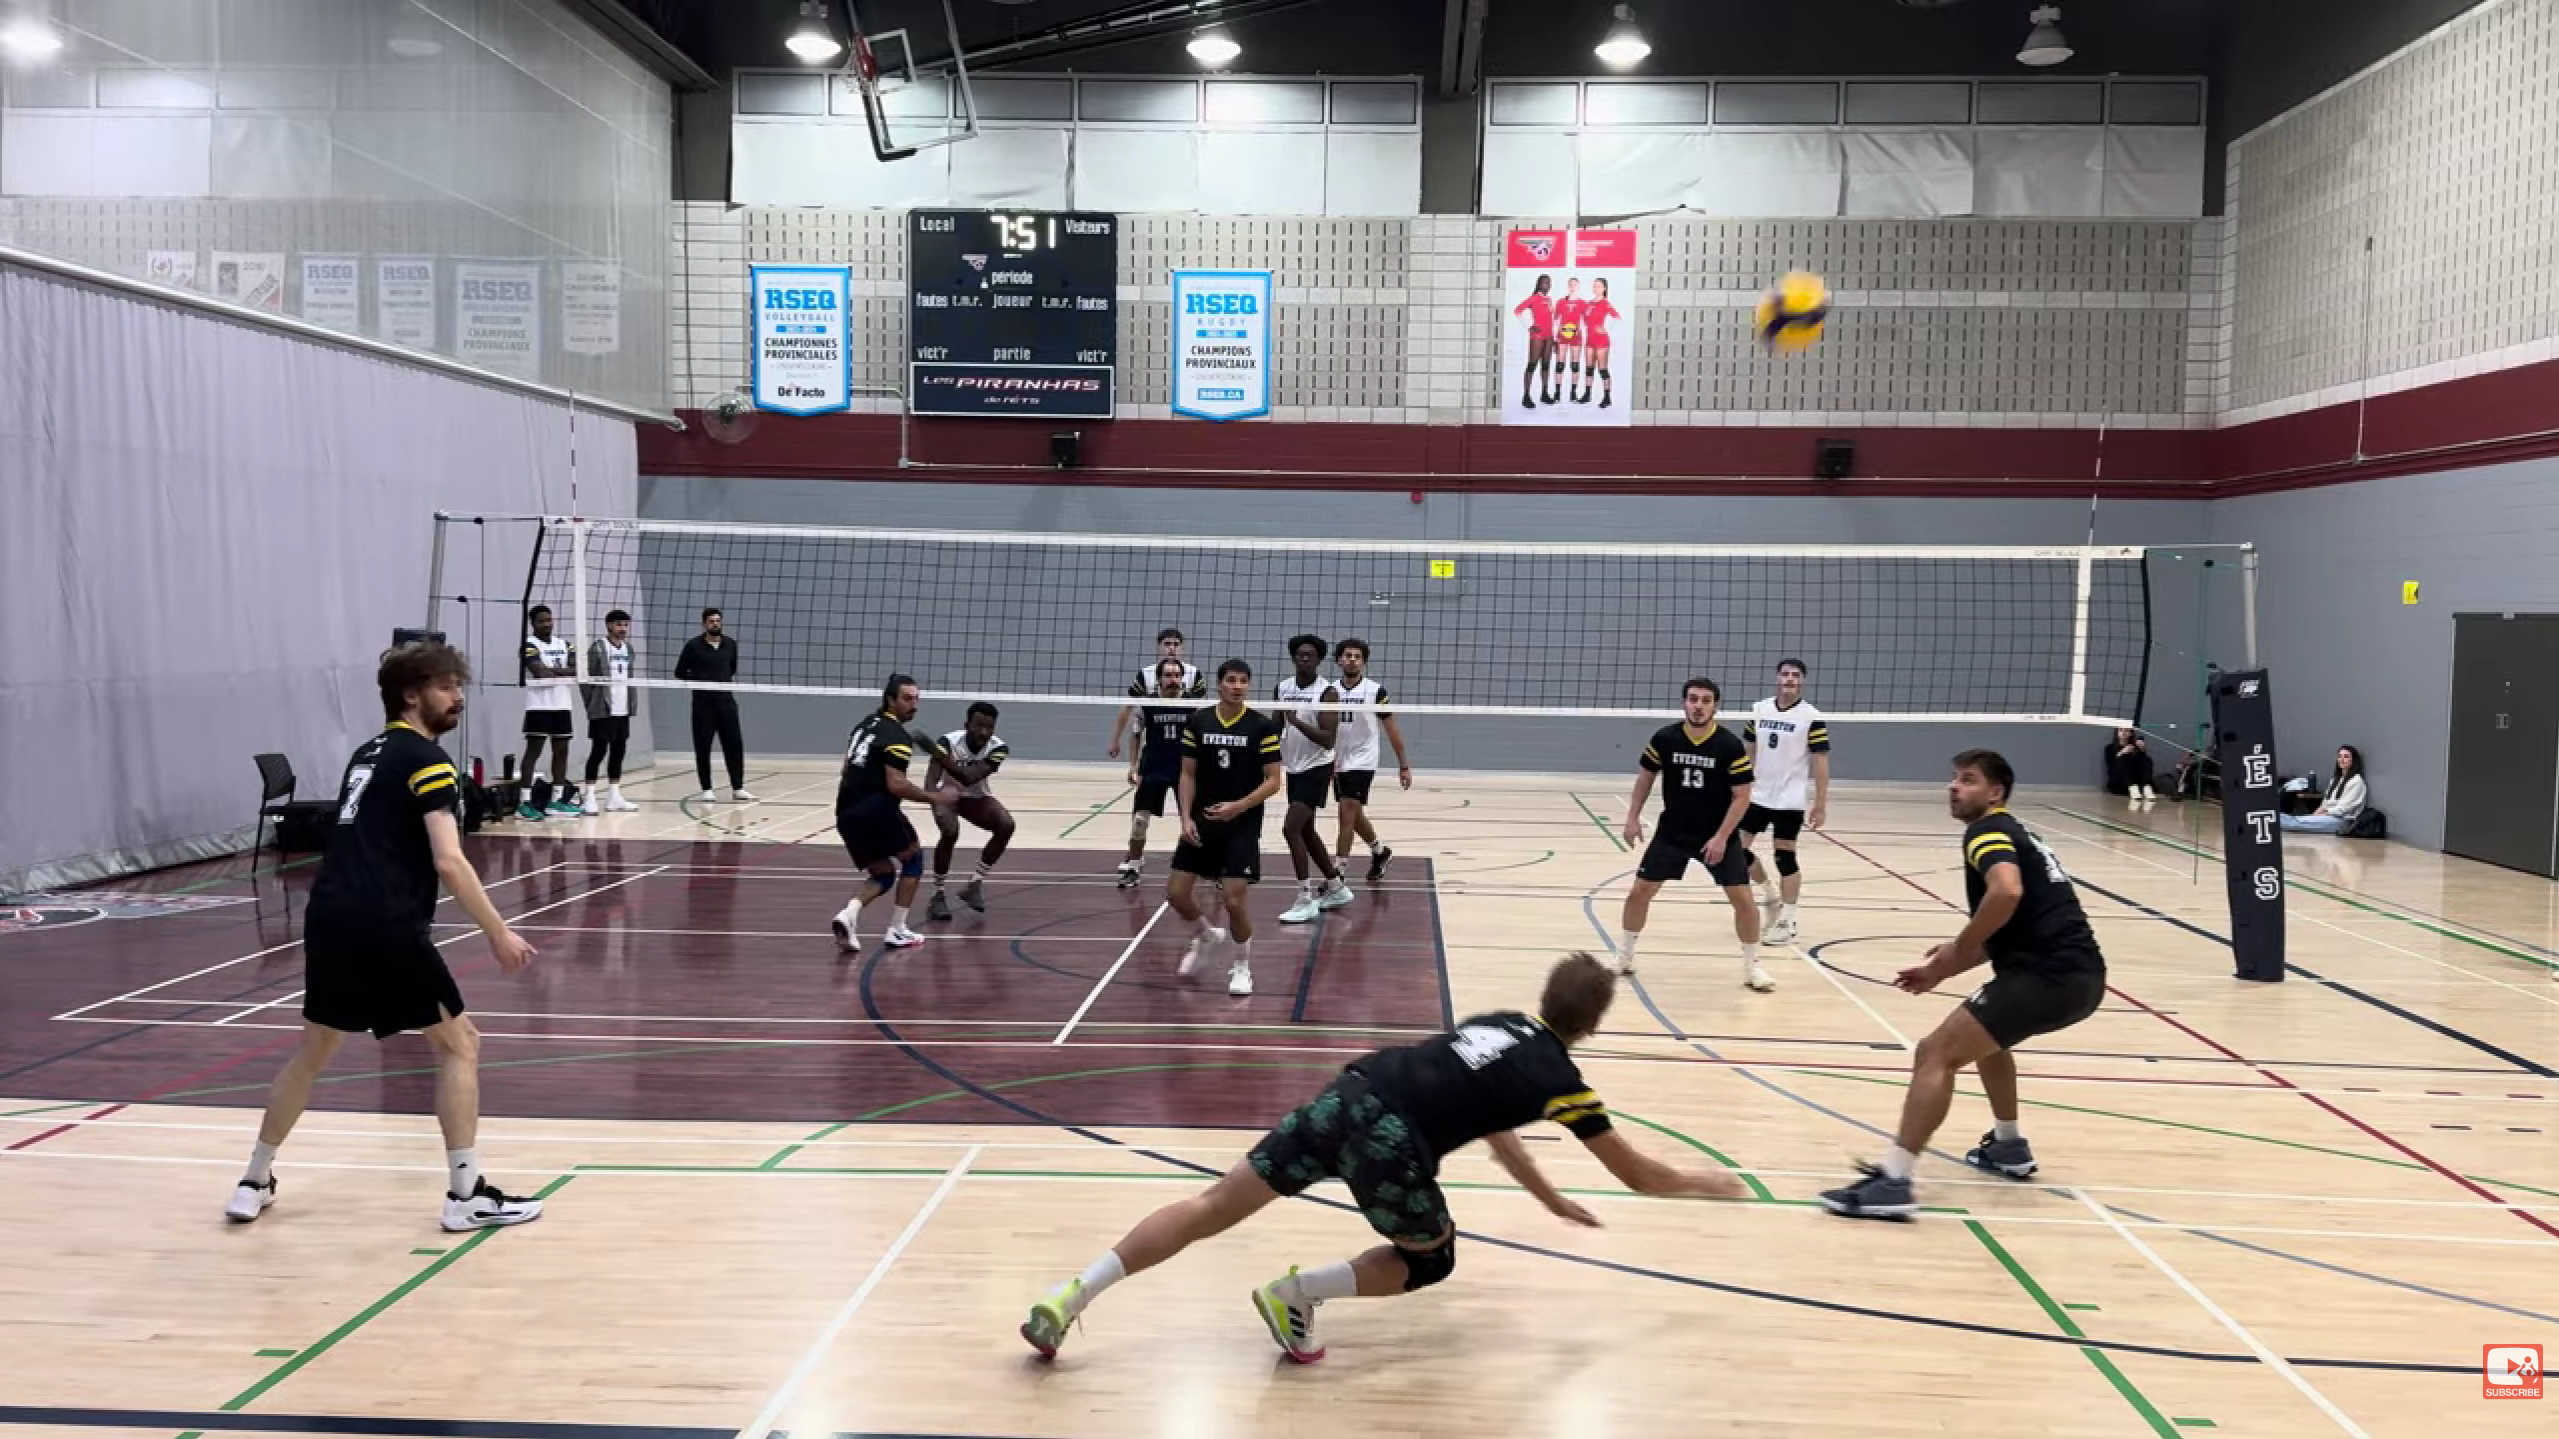Ball: (1749, 267, 1835, 357)
